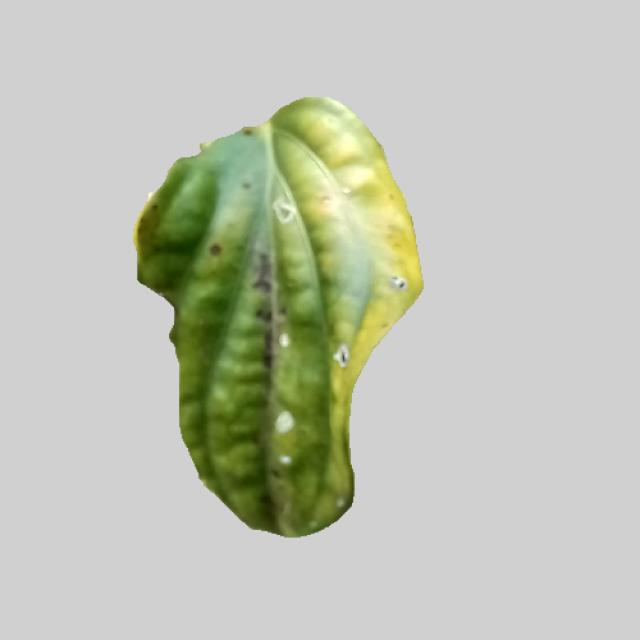yellow-mottle-virus: (120, 96, 427, 531)
